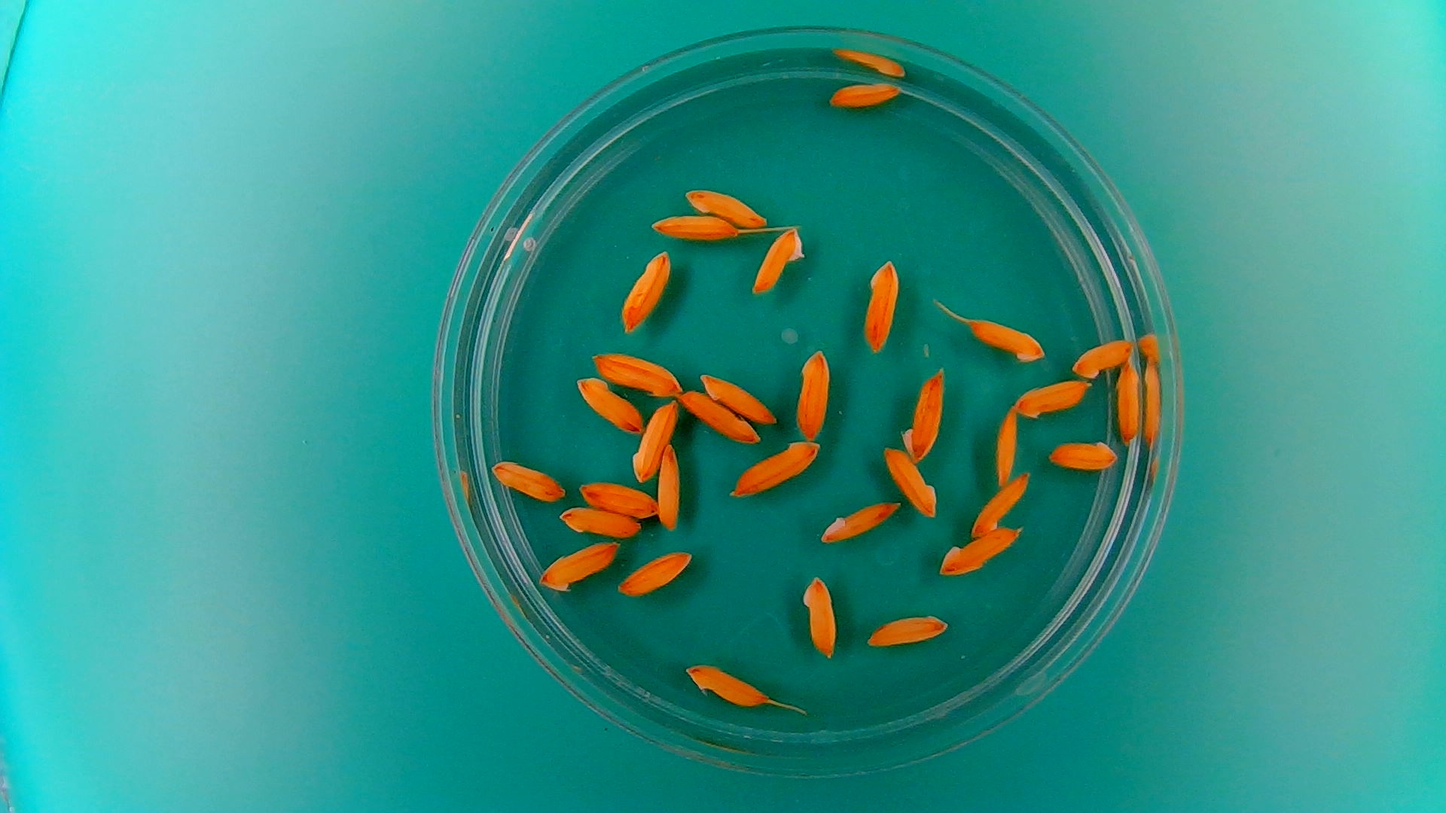no: (728, 438, 822, 500), (936, 524, 1024, 579), (618, 247, 674, 333), (676, 386, 760, 443), (536, 537, 620, 593), (588, 348, 684, 397), (899, 364, 947, 461), (881, 443, 940, 519), (573, 373, 646, 434), (969, 468, 1031, 538), (749, 222, 807, 296), (816, 497, 902, 546), (630, 395, 678, 482), (966, 314, 1048, 364), (700, 371, 777, 424), (682, 665, 770, 711), (615, 548, 694, 599), (860, 257, 901, 354), (862, 608, 951, 651), (684, 185, 770, 227), (794, 346, 832, 440), (488, 458, 567, 503), (1013, 376, 1092, 419), (800, 571, 838, 660), (577, 477, 658, 518), (556, 504, 642, 540), (1045, 435, 1121, 472), (1070, 336, 1134, 379), (648, 212, 739, 242), (1115, 357, 1144, 446), (655, 438, 682, 531), (827, 78, 905, 110), (992, 403, 1020, 488)
